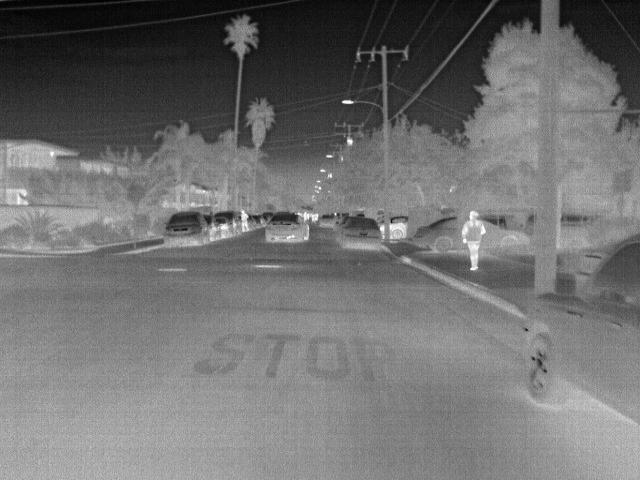car: (522, 235, 639, 420), (416, 214, 468, 250), (162, 212, 210, 247), (262, 212, 311, 242), (339, 218, 383, 250), (481, 220, 524, 252), (216, 208, 244, 236), (389, 214, 408, 241), (213, 216, 232, 241), (318, 212, 337, 229)
person: (460, 208, 484, 269), (237, 207, 252, 234)
